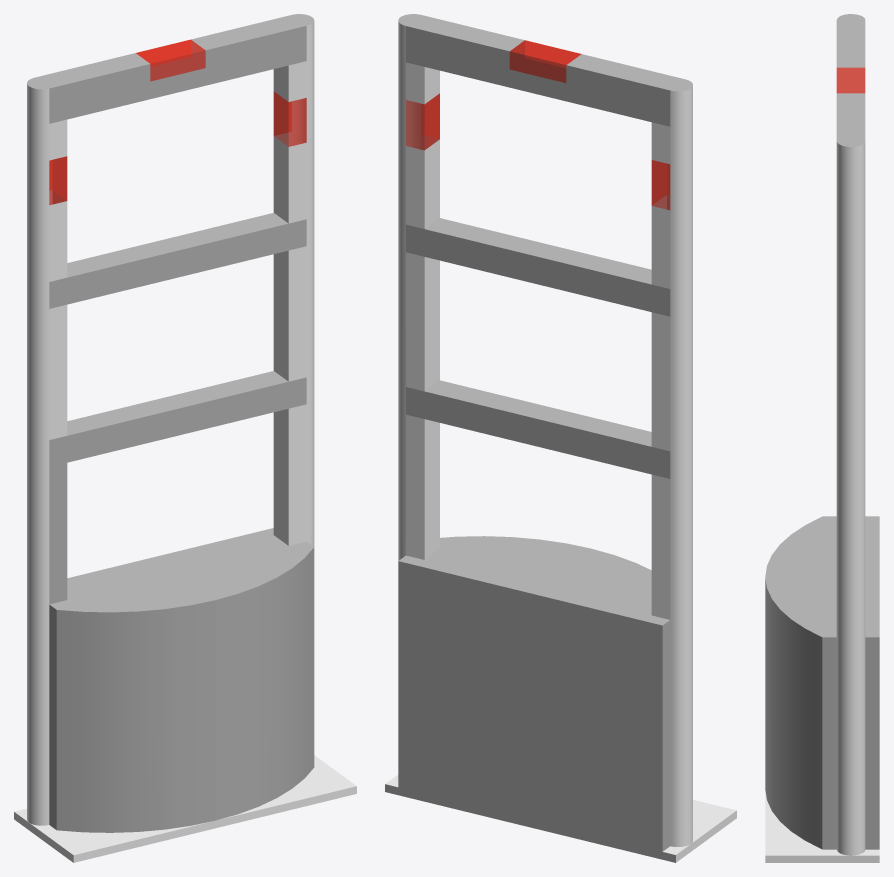
Rendered from Checkpoint.fbx.
3 renders of one model, left to right at view 1: azimuth 30°, elevation 25°; view 2: azimuth 150°, elevation 25°; view 3: azimuth 270°, elevation 25°, orthographic. The views are drawn at different scales.
Parts seen in each view (by area): view 1: Group1; view 2: Group1; view 3: Group1.
Boxes of the visible parts, x1,y1,x2,y2 form: Group1: [14, 14, 356, 862]; Group1: [385, 14, 736, 862]; Group1: [765, 14, 879, 862].
Bounding box in the file's own units: 26.47 × 66.44 × 9.63.
